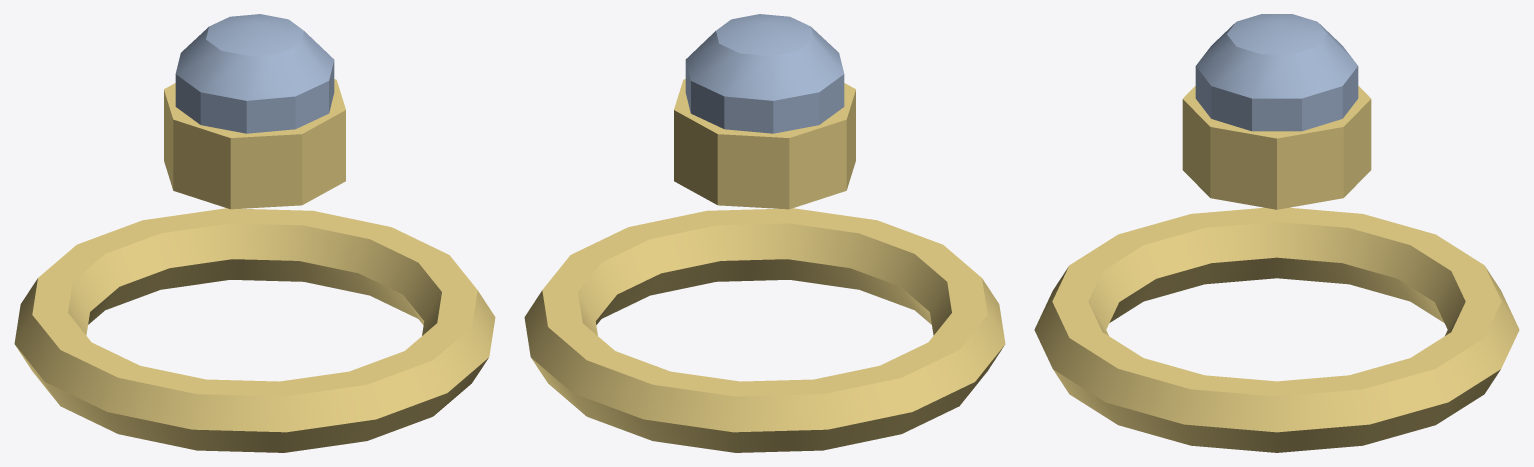
File: Loot_Timepiece_Ring.fbx
3 views of the same model, side by side, from view 1: azimuth 30°, elevation 25°; view 2: azimuth 150°, elevation 25°; view 3: azimuth 270°, elevation 25° (orthographic).
Visible parts, largest first — view 1: Loot_Timepiece_Ring; view 2: Loot_Timepiece_Ring; view 3: Loot_Timepiece_Ring.
Part boxes in pixels (box(x1,y1,x2,y2)): Loot_Timepiece_Ring: box(14, 14, 495, 452); Loot_Timepiece_Ring: box(524, 14, 1005, 452); Loot_Timepiece_Ring: box(1034, 14, 1519, 452).
Size of the model in its own units: 2.16 by 1.65 by 2.16.
